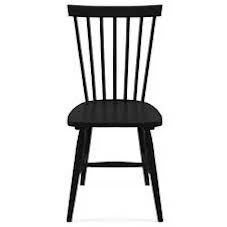chair: (45, 0, 194, 226)
